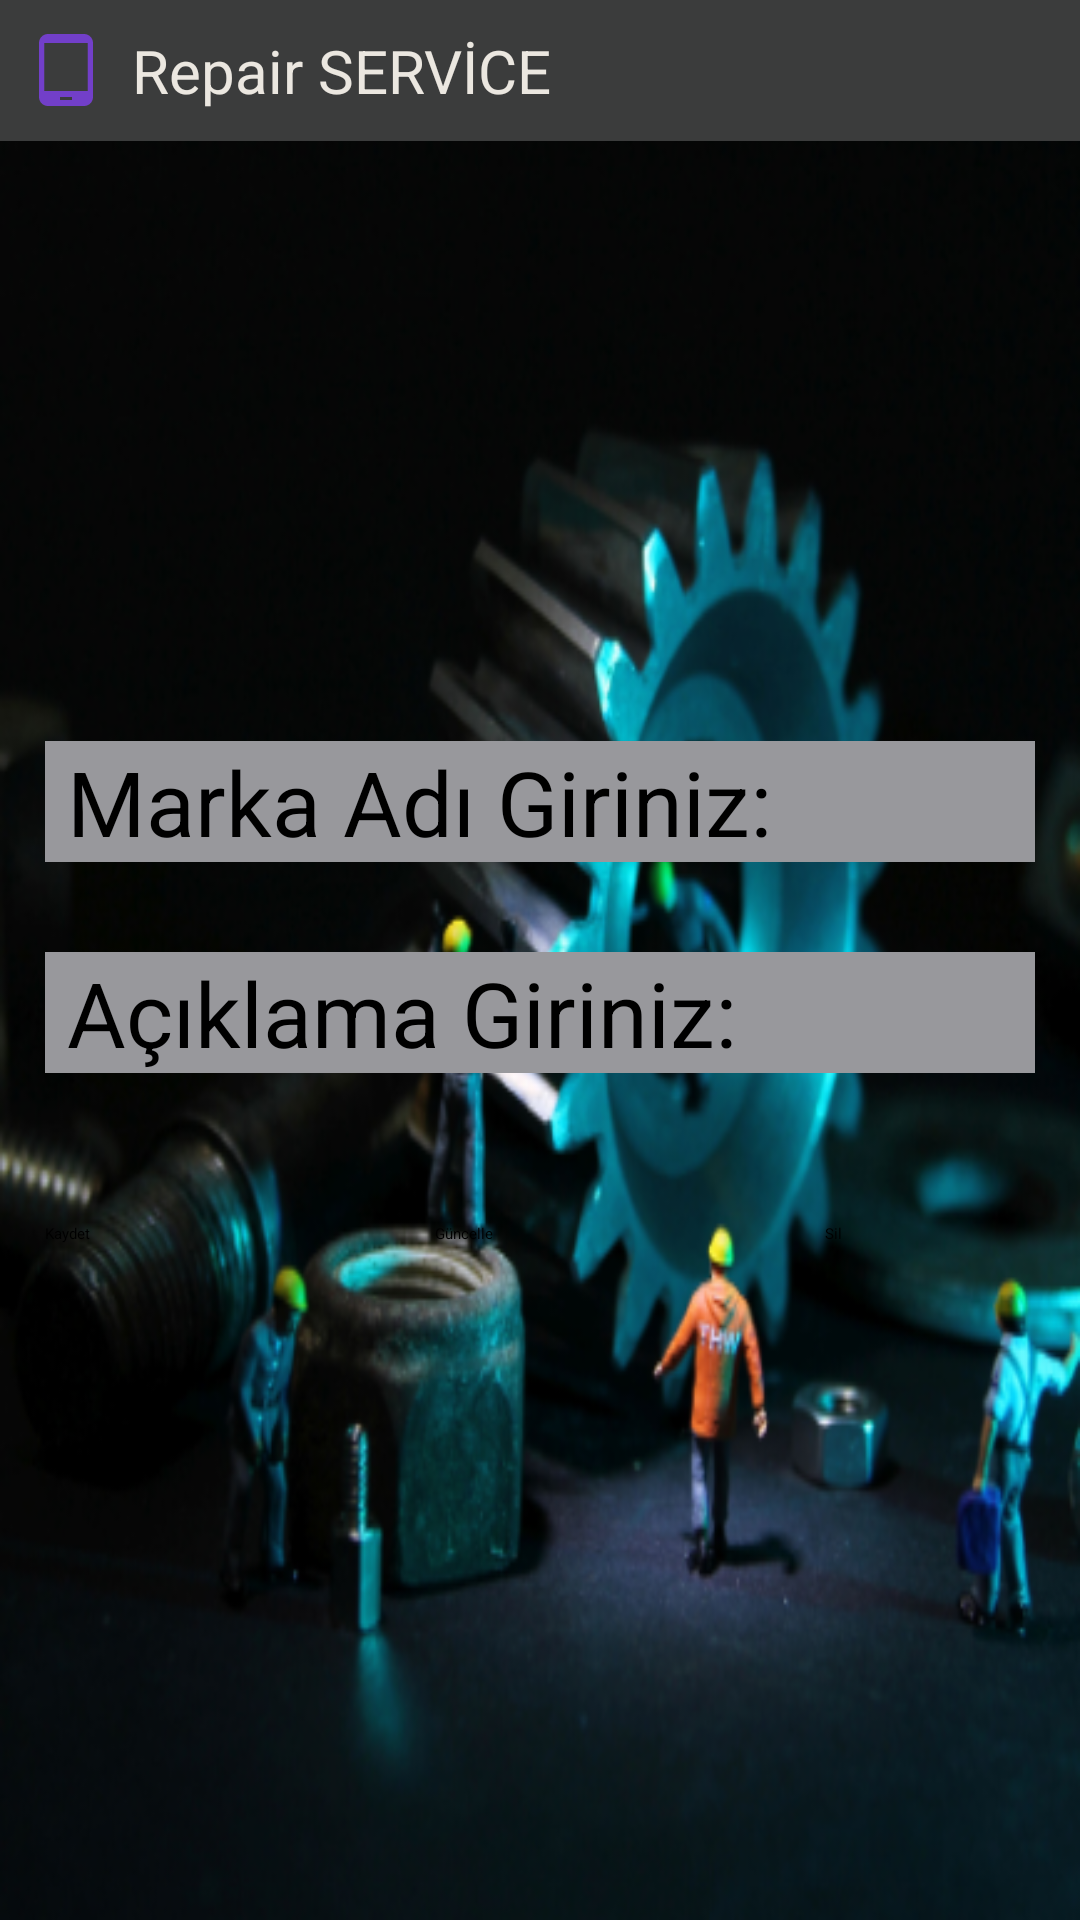

Icons on this 1080 x 1920 Android screen, each with the point to tap as point (x, y):
tablet android: point (66, 70)
